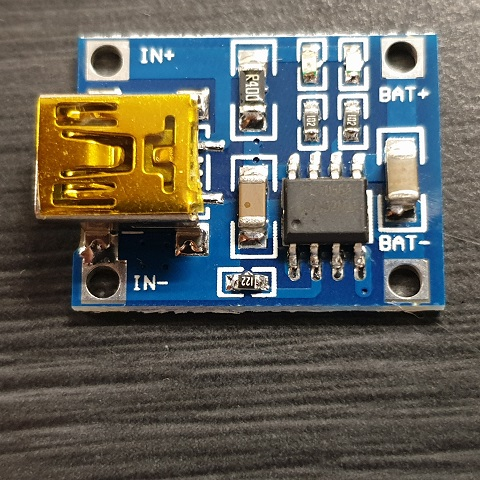batt+: (380, 36, 424, 79)
batt-: (380, 260, 424, 300)
charge: (293, 38, 332, 90)
done: (336, 39, 368, 87)
rprog: (214, 266, 280, 296)
usb: (38, 90, 208, 218)
